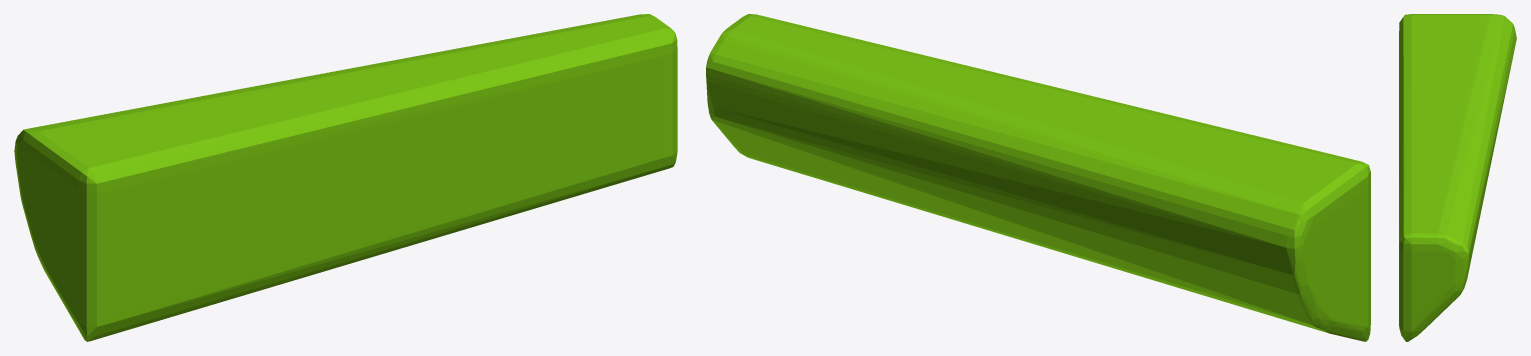
The model's file is right_f_proximal_part_4.obj.
The picture shows the model from 3 angles, left to right: view 1: azimuth 30°, elevation 25°; view 2: azimuth 150°, elevation 25°; view 3: azimuth 270°, elevation 25°; orthographic projection. The views are drawn at different scales.
Bounding box in the file's own units: 5.09 × 1.38 × 1.12.
